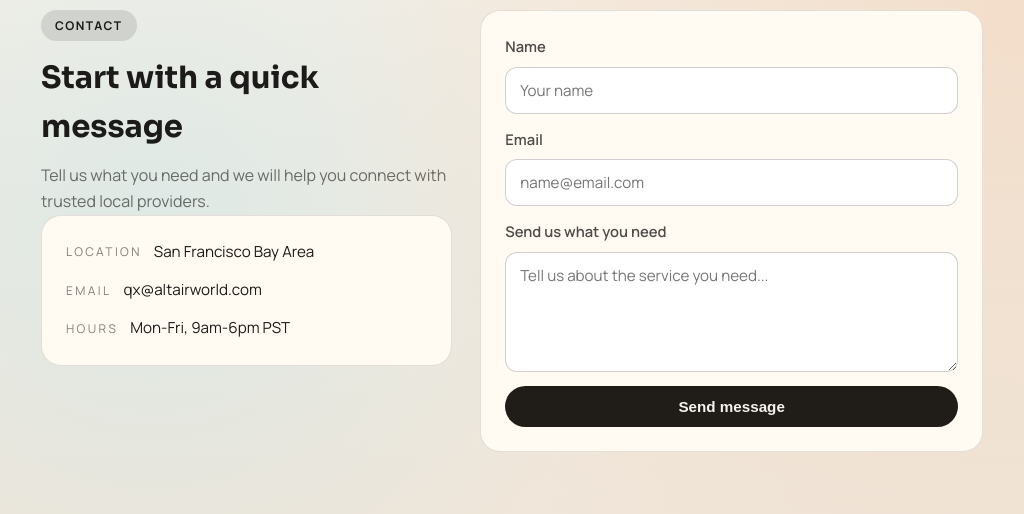
Test case: Contact form › announces success after submission
Type "Ada Lovelace" into the field labelled "Name" at [732, 90], box [505,66,958,114]
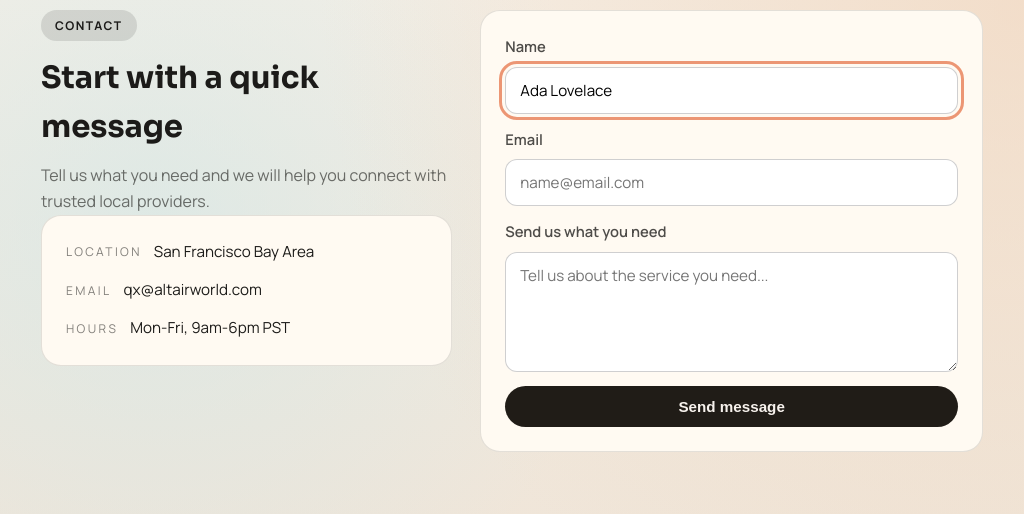
Type "ada@example.com" into the field labelled "Email" at [732, 183], box [505,159,958,206]
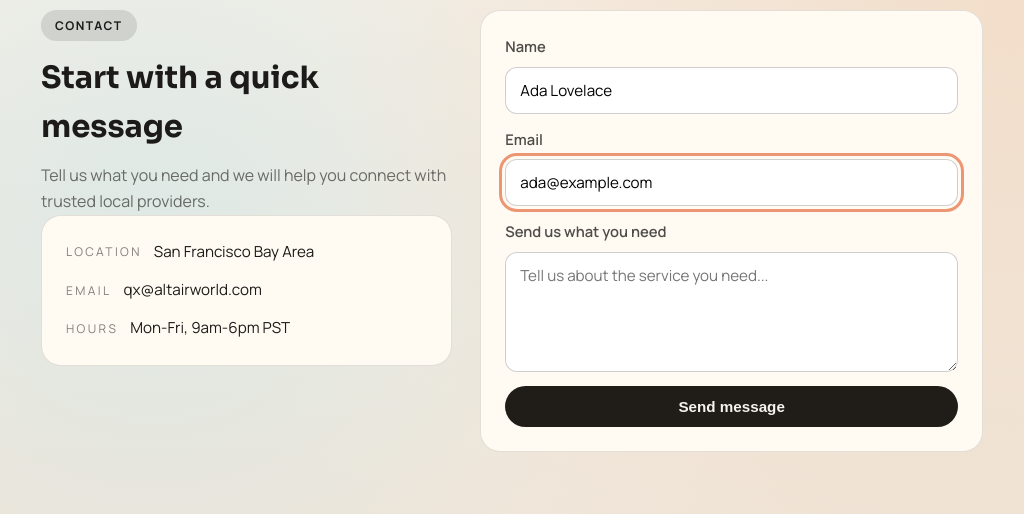
Type "I need help with a local provider." into the text box labelled "Send us what you need" at [732, 312], box [505,252,958,372]
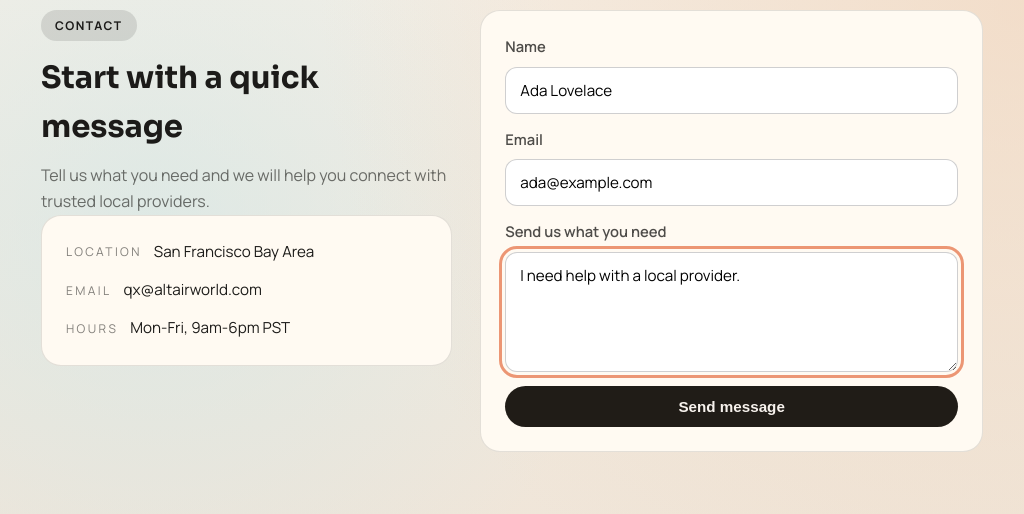
Click the button "Send message" at [732, 406], box [505,386,958,427]
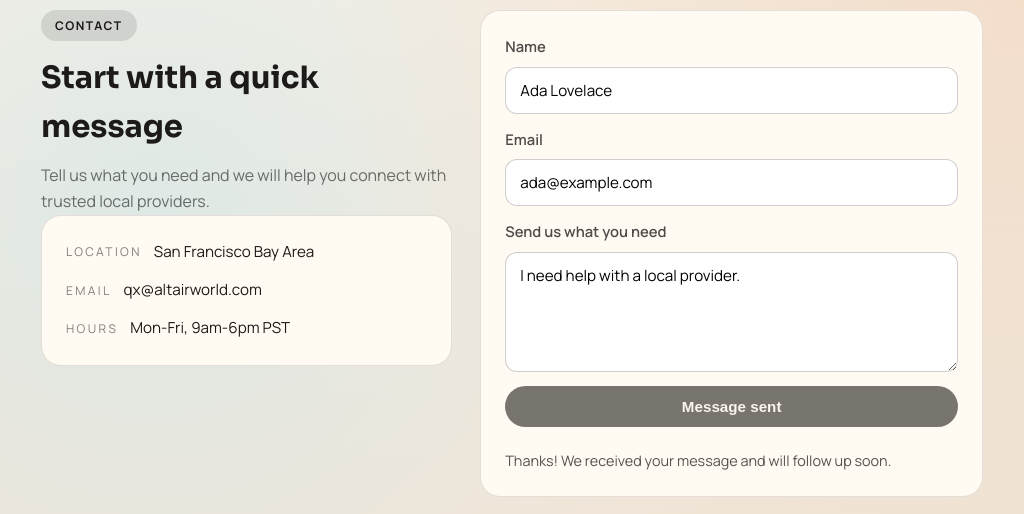
Check: the message shows "Thanks! We received your message", box [505,451,891,470]
Check: the button "Message sent" is disabled, box [505,386,958,427]
